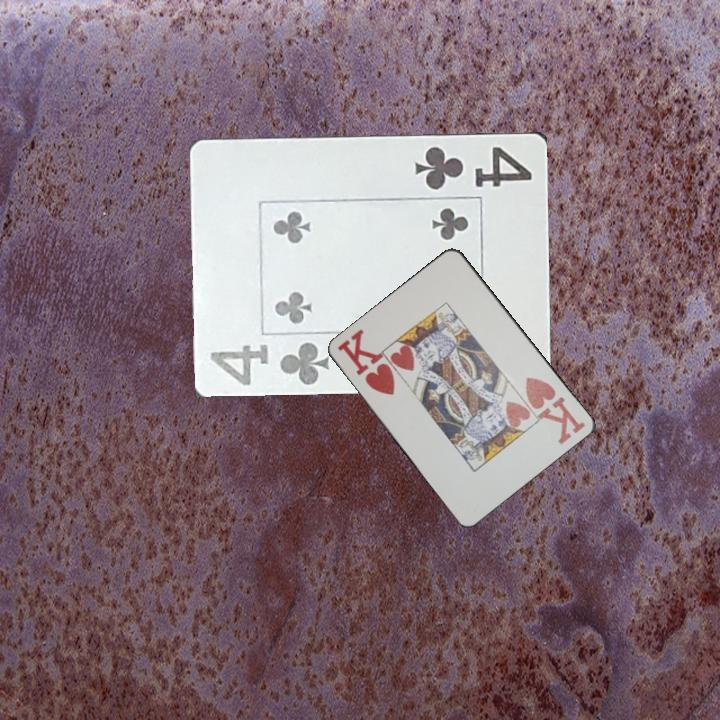4c: (207, 338, 333, 388), (412, 142, 535, 192)
Kh: (522, 373, 589, 447), (333, 327, 398, 398)
